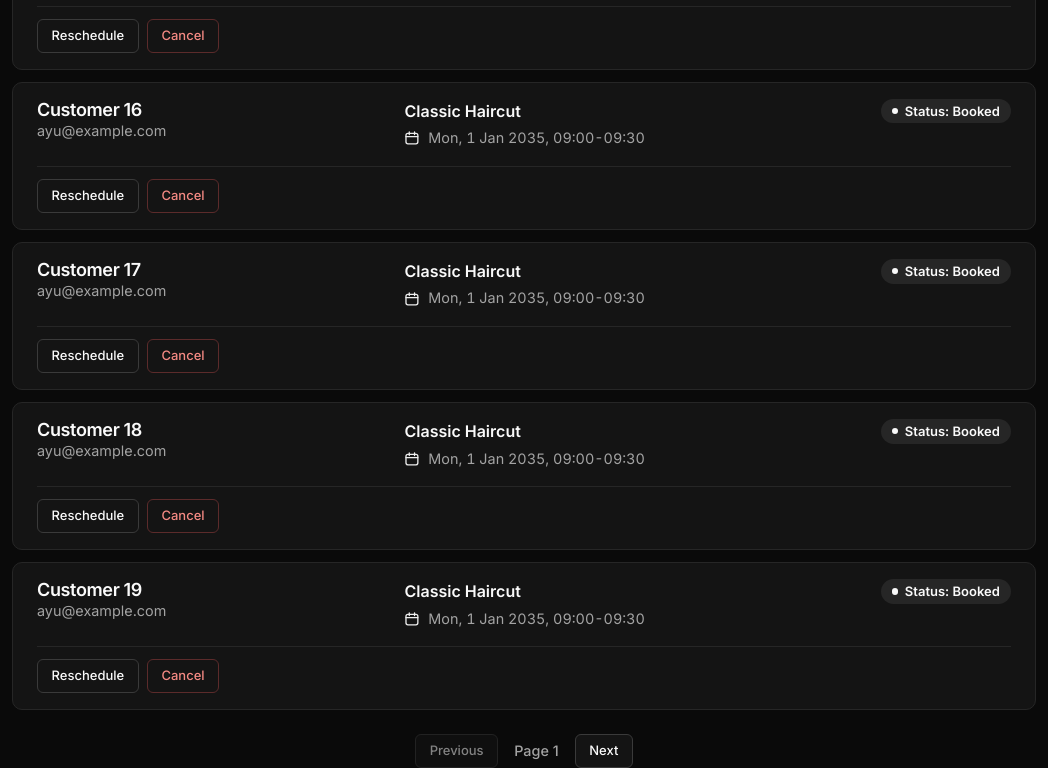
Test case: StaffPage › pages forward and back, and moves focus to the heading
(page scrolled)
Expected: the text "Customer 20" is not shown
Expected: the text "Page 1" is shown, [514,740,559,762]
Click the button "Next": (604, 751) [575,734,633,767]
(page scrolled)
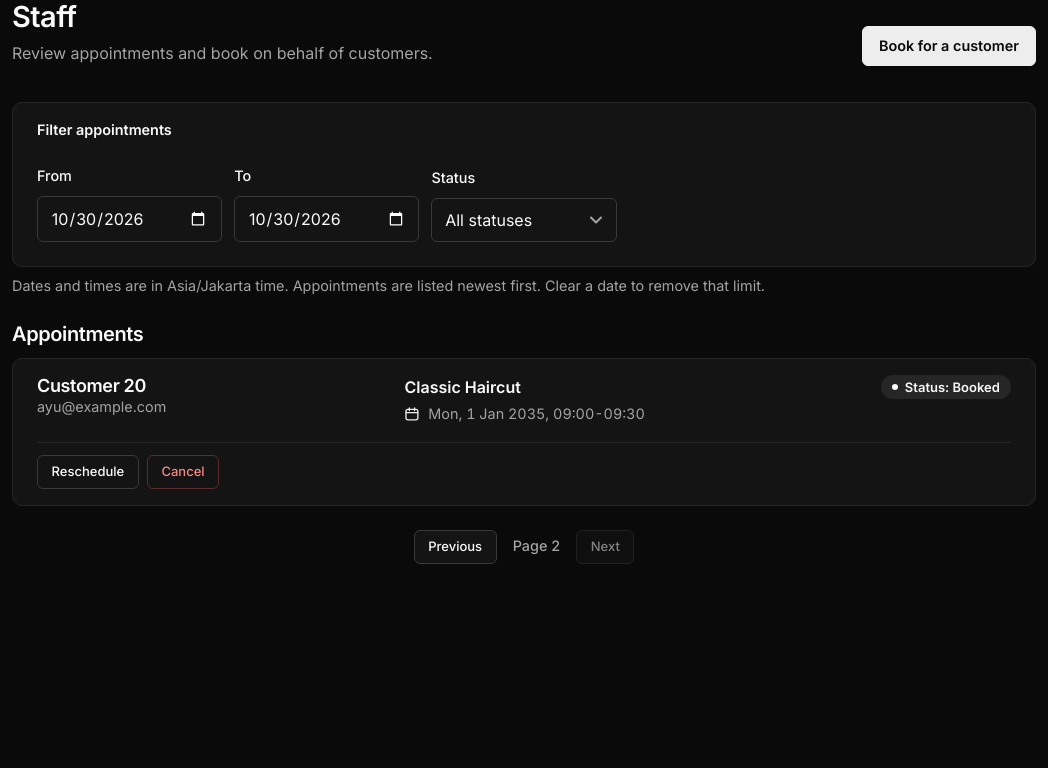
Expected: the heading "Customer 20" is shown, [37,374,146,396]
Expected: the text "Page 2" is shown, [513,536,560,558]
Expected: the button "Next" is disabled, [576,530,634,564]
Click the button "Previous": (455, 547) [414,530,497,564]
(page scrolled)
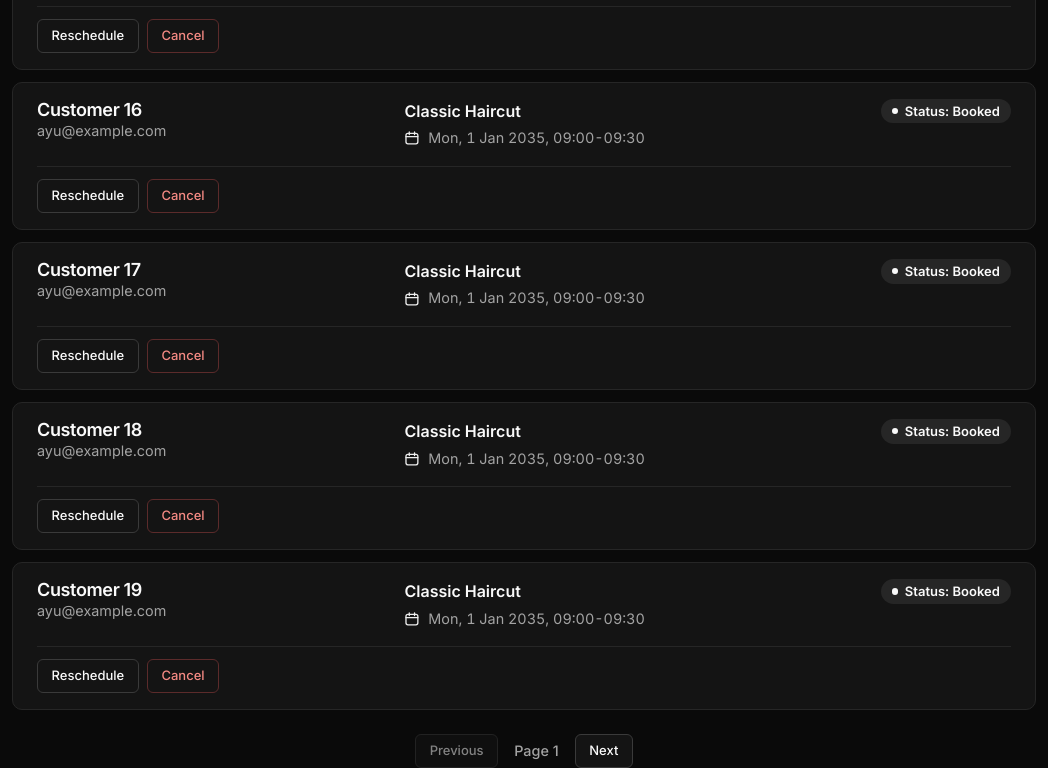
Expected: the text "Page 1" is shown, [514,740,559,762]
